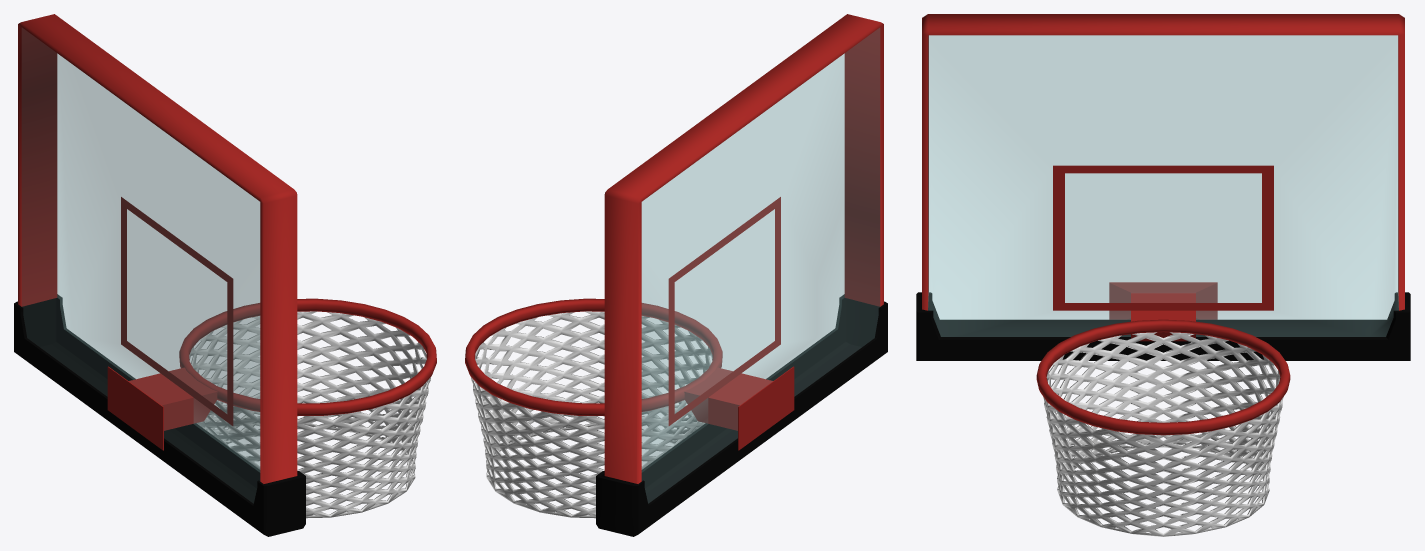
Rendered from BasketBallHoopShortNet.fbx.
The picture shows the model from 3 angles, left to right: view 1: azimuth 30°, elevation 25°; view 2: azimuth 150°, elevation 25°; view 3: azimuth 270°, elevation 25°; orthographic projection.
Visible parts, largest first — view 1: BasketballHoop; view 2: BasketballHoop; view 3: BasketballHoop.
Boxes of the visible parts, left/top/right/bottom form: BasketballHoop: left=14, top=14, right=436, bottom=536; BasketballHoop: left=465, top=14, right=887, bottom=536; BasketballHoop: left=916, top=14, right=1410, bottom=536.
Size of the model in its own units: 78.93 by 107 by 121.
